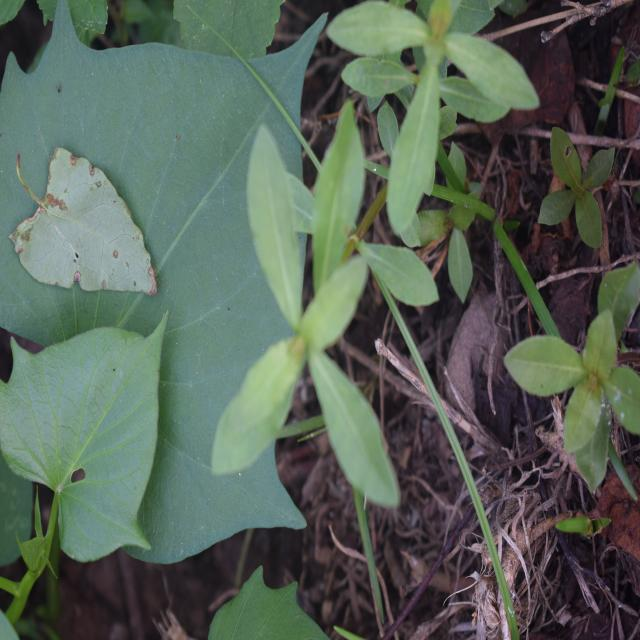Alligatorweed: (338, 0, 535, 242), (489, 275, 640, 484)
